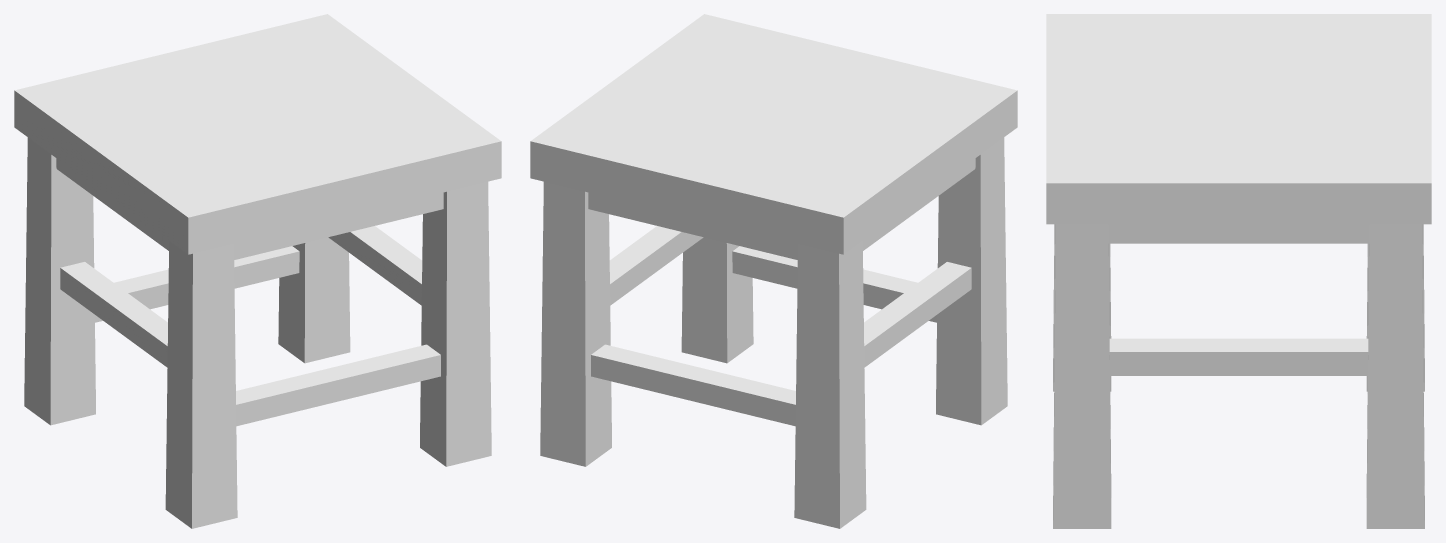
File: Prop_Wooden_Stool_01.glb
3 views of the same model, side by side, from view 1: azimuth 30°, elevation 25°; view 2: azimuth 150°, elevation 25°; view 3: azimuth 270°, elevation 25° (orthographic). The views are drawn at different scales.
Parts seen in each view (by area): view 1: Prop_Wooden_Stool_01; view 2: Prop_Wooden_Stool_01; view 3: Prop_Wooden_Stool_01.
Boxes of the visible parts, x1,y1,x2,y2 form: Prop_Wooden_Stool_01: [14, 14, 501, 528]; Prop_Wooden_Stool_01: [530, 14, 1017, 528]; Prop_Wooden_Stool_01: [1046, 14, 1431, 528].
Bounding box in the file's own units: 0.26 × 0.25 × 0.25.
1 material, 1 textured.
